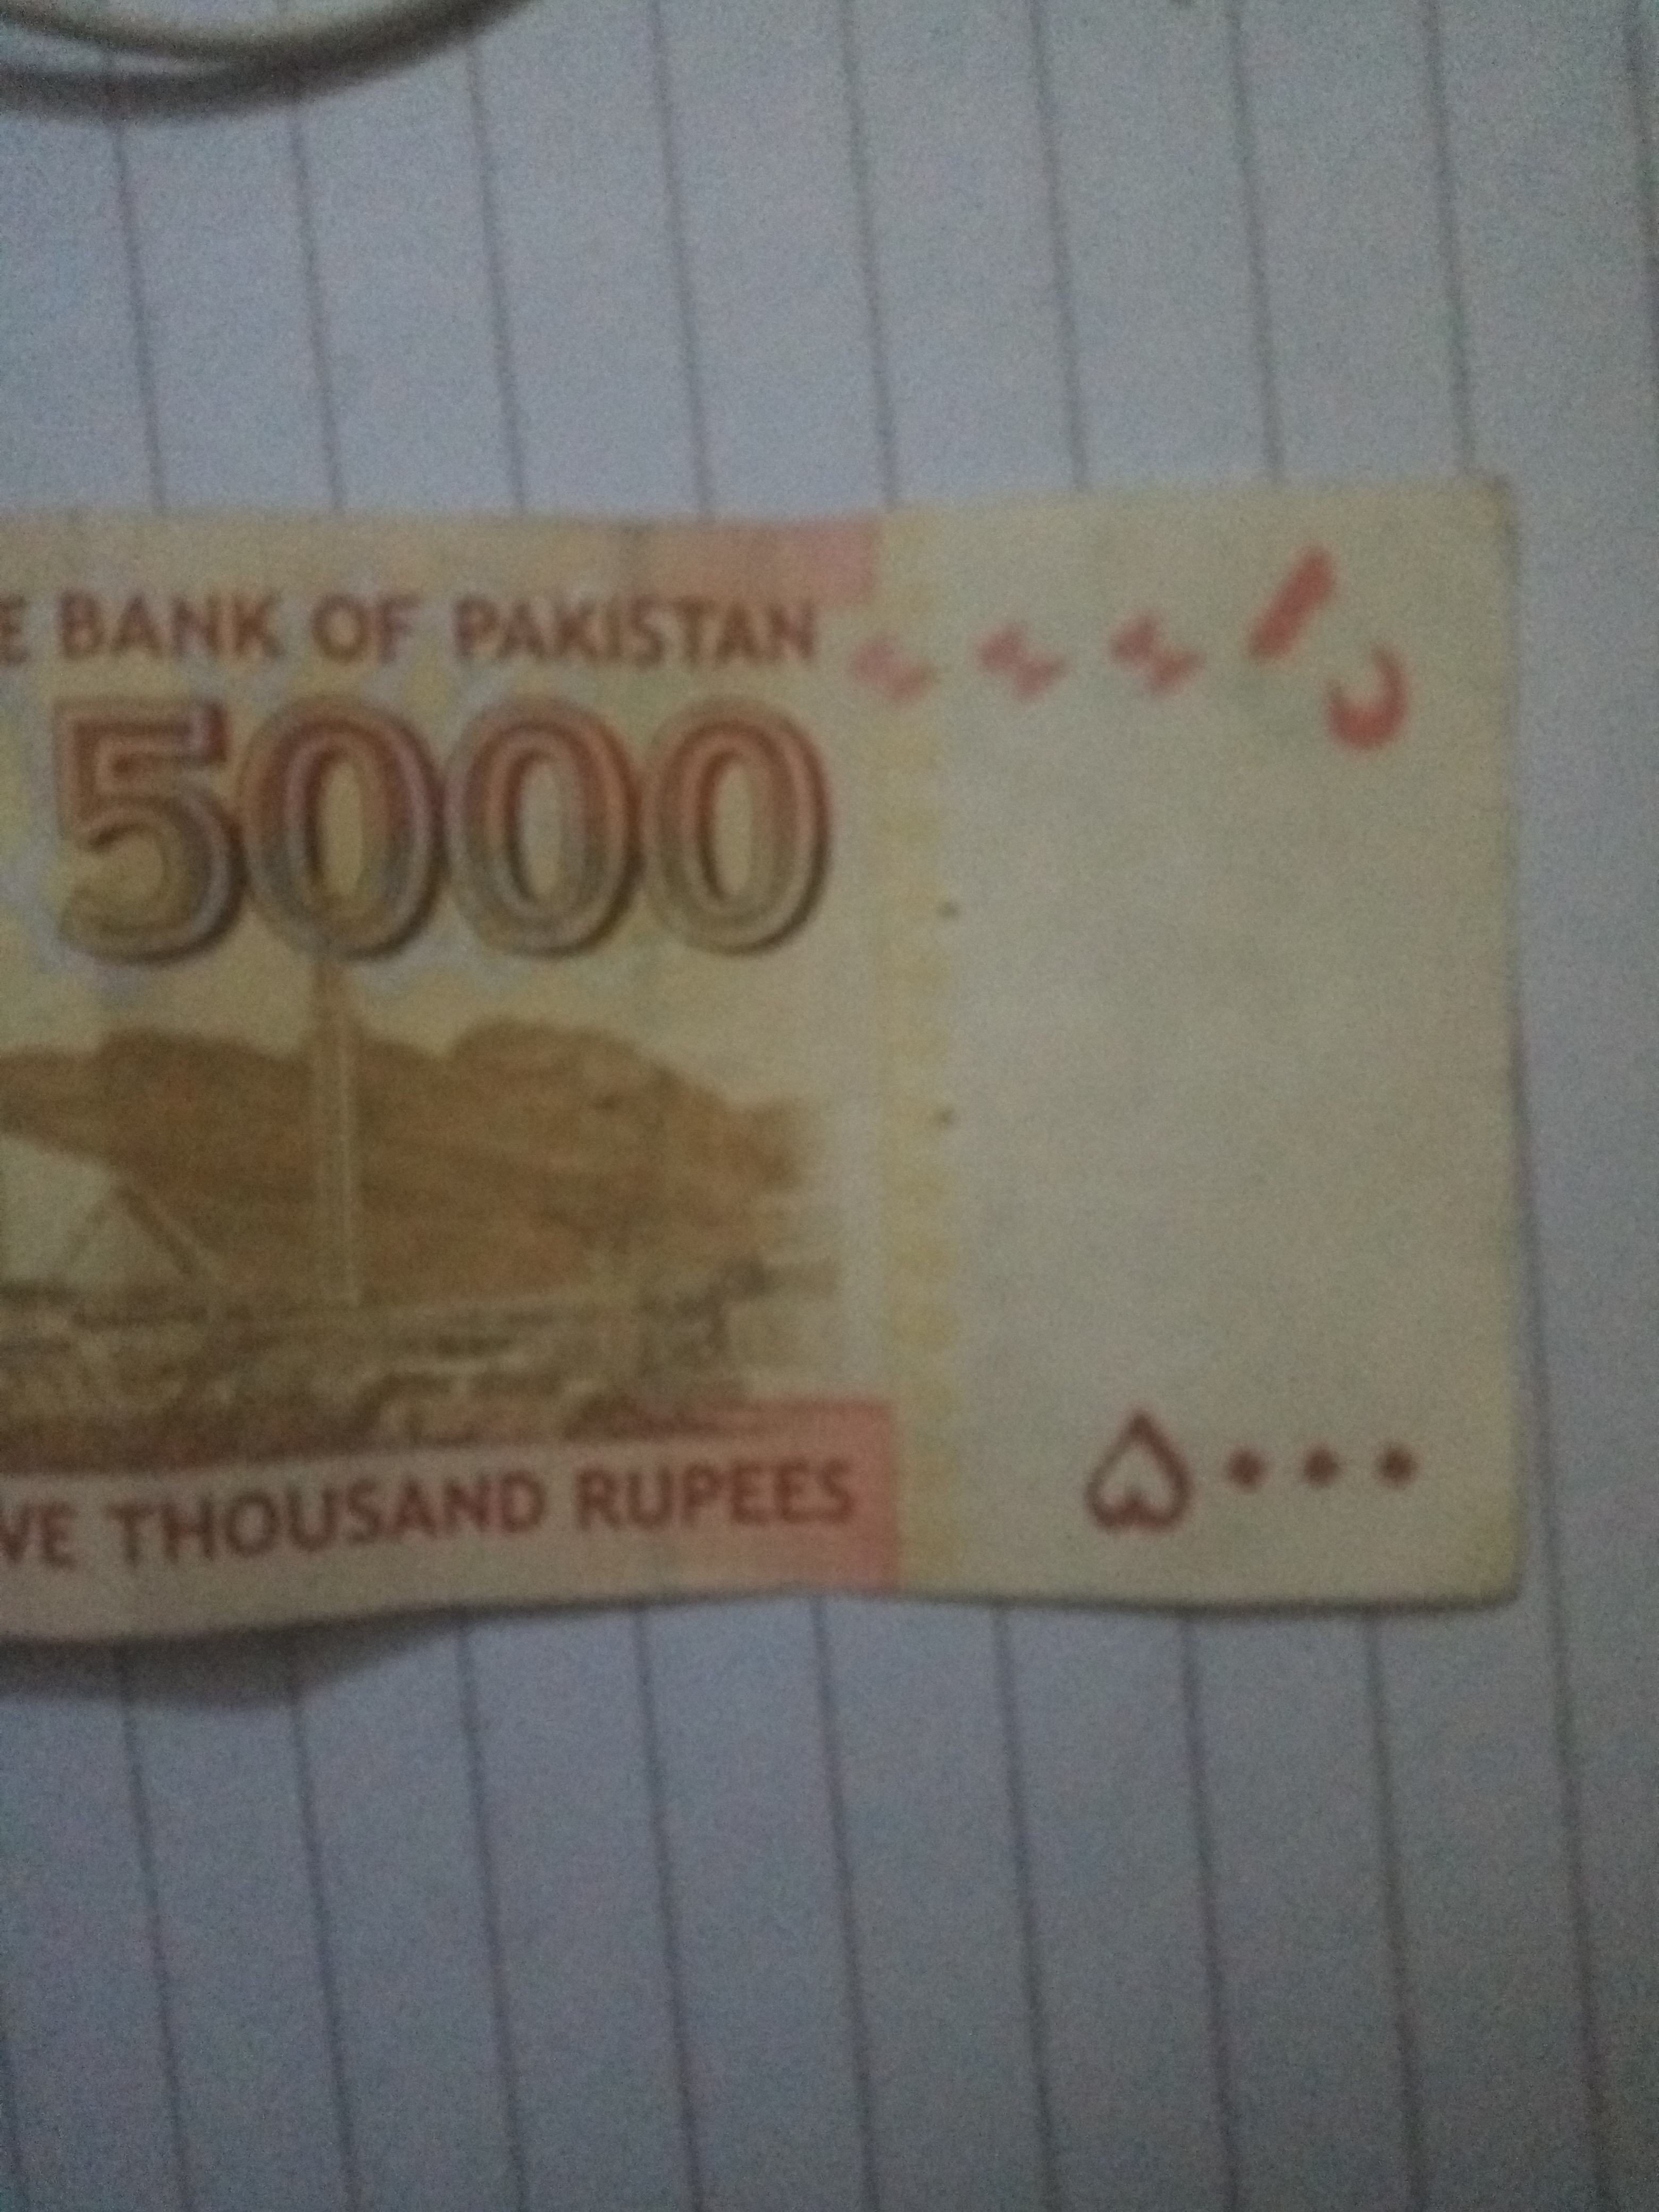5000 rupee: (35, 456, 1574, 1742)
